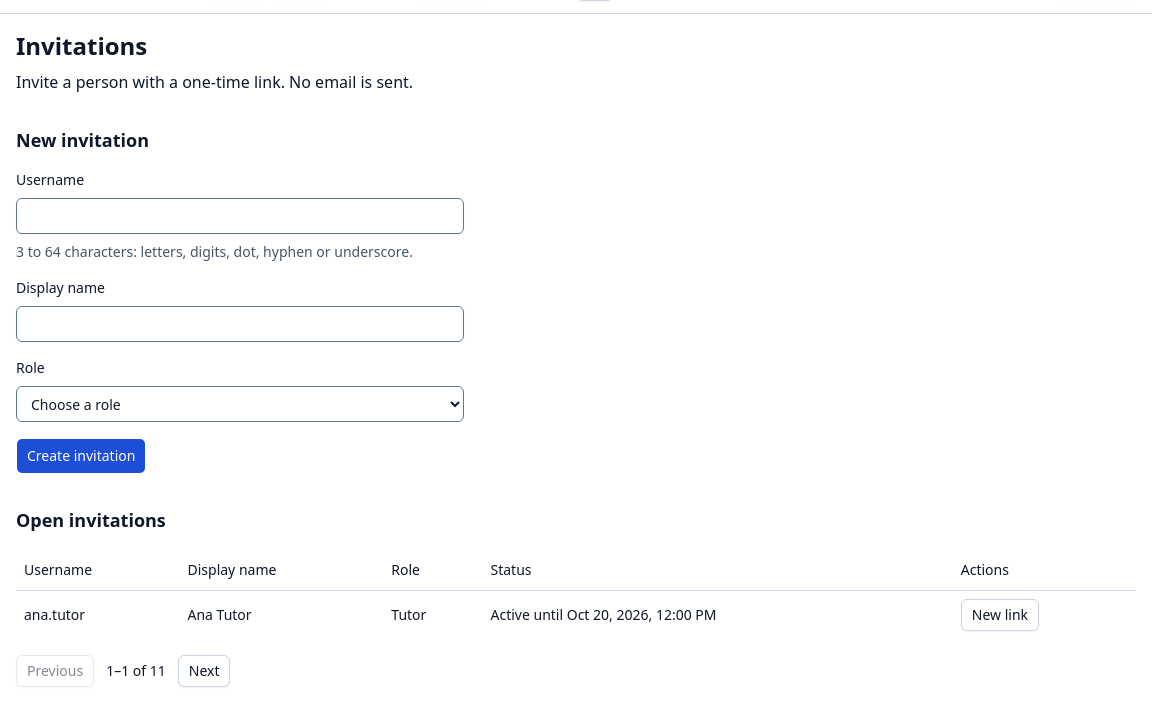
Test: the open invitations (I5) › pages with previous and next
This screenshot has width=1152, height=703.
(page scrolled)
Expected: the element that starts with "Invitations" shows "1–1 of 11", [106, 660, 166, 680]
Expected: the button "Previous" is disabled, [16, 654, 94, 686]
Click the button "Next": (204, 670) [178, 654, 230, 686]
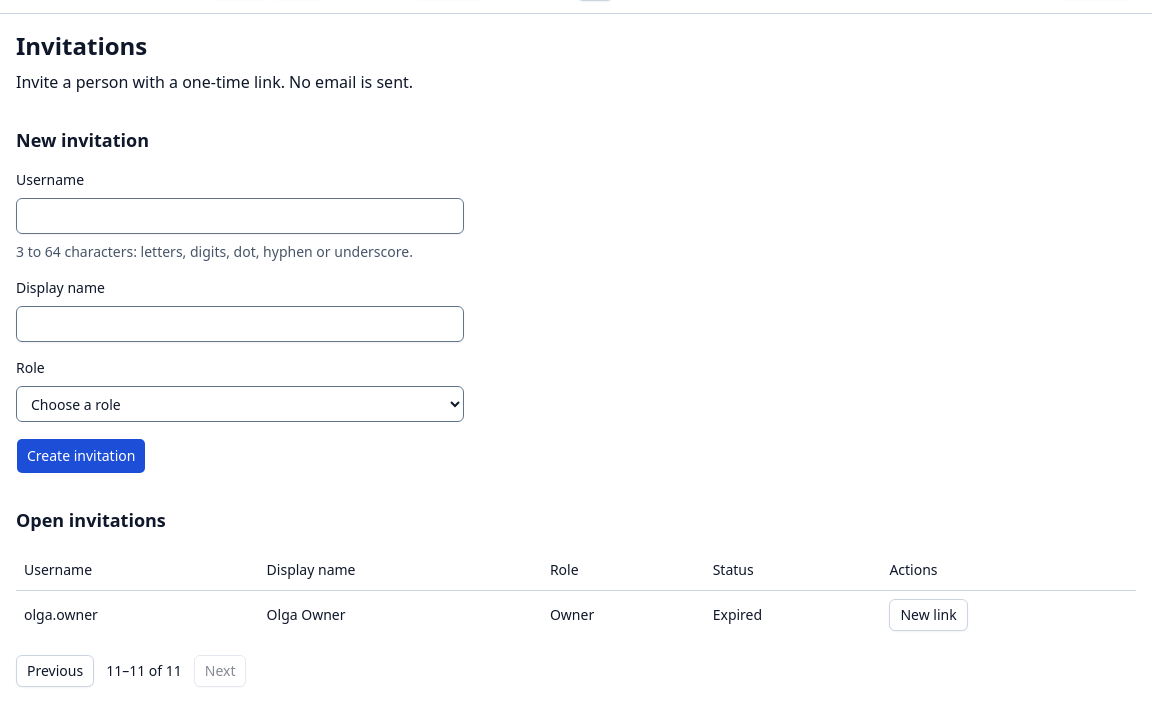
Expected: the element that starts with "Invitations" shows "11–11 of 11", [106, 660, 182, 680]
Expected: the row "olga.owner Olga Owner Owner Expired New link" is shown, [16, 590, 1136, 638]
Expected: the button "Next" is disabled, [194, 654, 246, 686]
